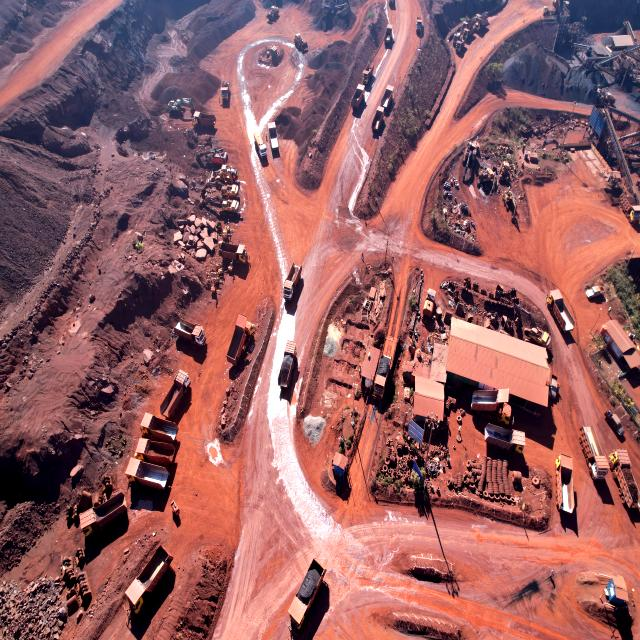Blast rig: (197, 147, 227, 164)
Dumper truck: (124, 548, 174, 616), (286, 562, 330, 635), (76, 490, 127, 540), (611, 452, 640, 503), (162, 369, 192, 416), (126, 462, 170, 494), (470, 388, 511, 422), (581, 426, 607, 477), (277, 338, 299, 398), (556, 457, 576, 518), (484, 428, 525, 457), (277, 337, 299, 391), (141, 414, 178, 442), (173, 320, 206, 350), (548, 289, 571, 332), (140, 439, 176, 466), (282, 260, 302, 296), (231, 316, 248, 358), (222, 245, 248, 266), (194, 112, 214, 129), (283, 279, 298, 298), (352, 87, 365, 108), (382, 86, 394, 108), (221, 80, 231, 102), (630, 205, 640, 224), (542, 7, 556, 20), (385, 26, 395, 44), (462, 26, 474, 40), (554, 0, 570, 10), (472, 16, 485, 28), (362, 68, 373, 82), (454, 38, 465, 52), (415, 17, 424, 34), (374, 107, 382, 125), (459, 14, 472, 25), (271, 138, 279, 154), (268, 123, 278, 135), (385, 0, 397, 9)
Excavator: (200, 196, 240, 215), (200, 181, 238, 198), (461, 144, 477, 182), (503, 188, 518, 228), (526, 327, 552, 347), (478, 166, 494, 187), (175, 98, 195, 112), (168, 99, 180, 112)
car: (606, 412, 626, 436), (586, 285, 604, 301)
person: (458, 426, 461, 432), (218, 95, 220, 102), (265, 132, 267, 138), (362, 252, 364, 258)
